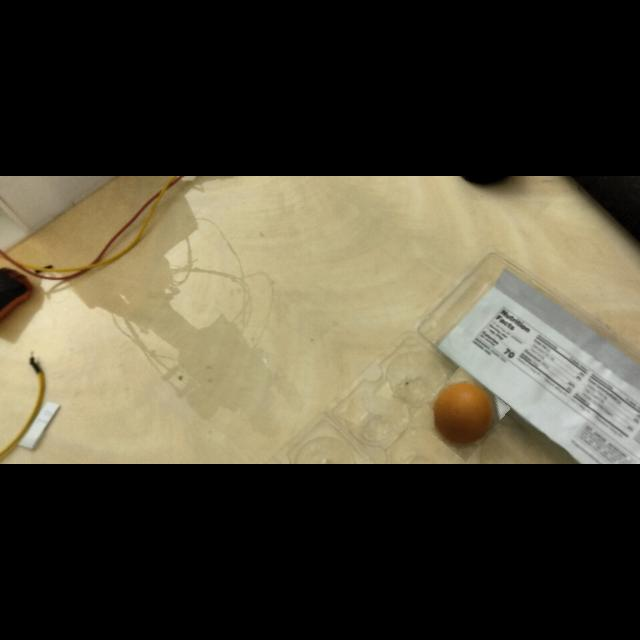Egg: (422, 372, 503, 456)
